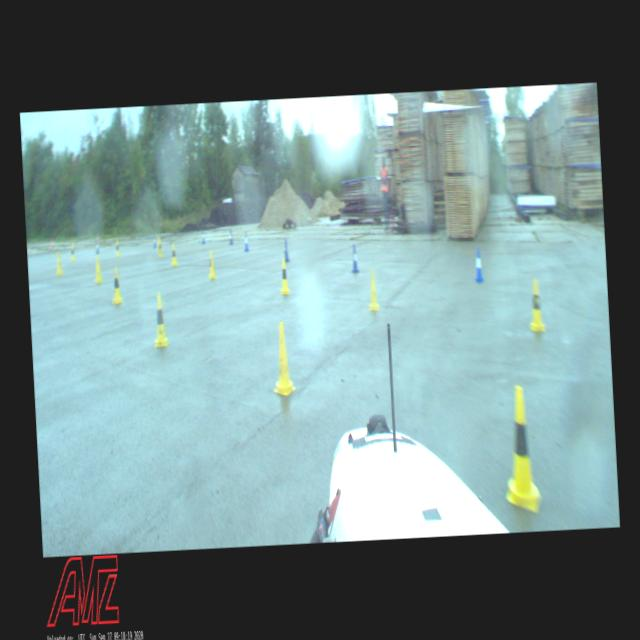blue_cone: (474, 248, 484, 282), (352, 245, 359, 273), (282, 240, 288, 260), (244, 233, 249, 251), (201, 229, 205, 244), (229, 230, 233, 244), (152, 234, 156, 247), (96, 238, 99, 254)
orange_cone: (50, 239, 54, 250)
yellow_cone: (500, 384, 541, 514), (270, 321, 296, 397), (528, 280, 546, 332), (152, 292, 168, 348), (366, 267, 380, 311), (111, 266, 123, 304), (280, 260, 290, 294), (208, 250, 216, 278), (95, 258, 102, 284), (171, 242, 178, 266), (56, 253, 63, 276), (157, 238, 163, 258), (115, 239, 120, 257), (70, 243, 74, 262)
